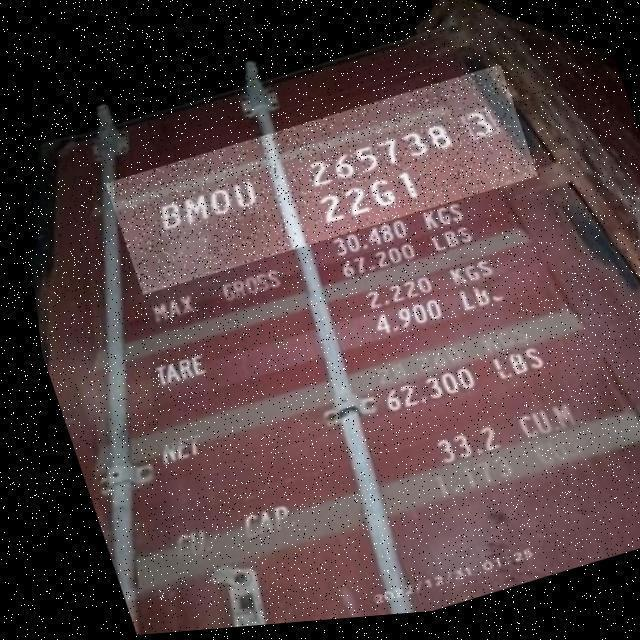ISO: (321, 172, 424, 224)
container_number: (153, 97, 507, 231)
